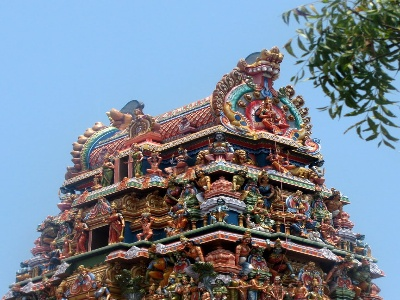gopura: (53, 82, 382, 288)
